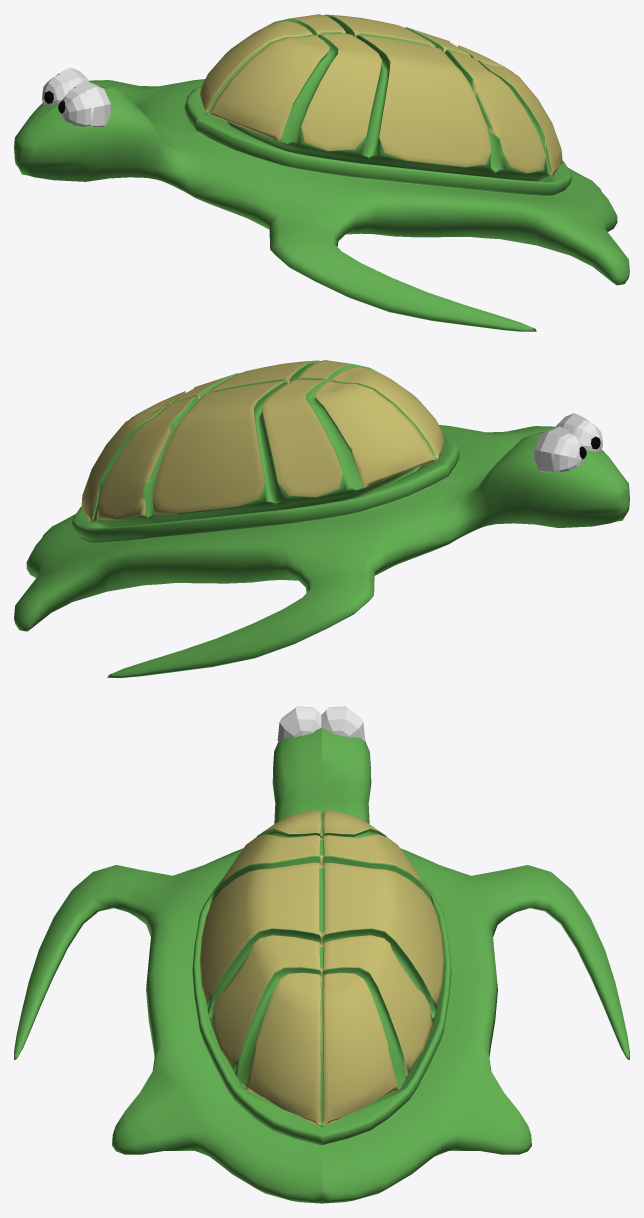
File: TURTLE2.fbx
3 renders of one model, top to bottom at view 1: azimuth 30°, elevation 25°; view 2: azimuth 150°, elevation 25°; view 3: azimuth 270°, elevation 25°, orthographic. The views are drawn at different scales.
Parts seen in each view (by area): view 1: TURTLE; view 2: TURTLE; view 3: TURTLE.
Part boxes in pixels (x1,y1,x2,y2): TURTLE: (14, 14, 629, 331); TURTLE: (14, 360, 629, 677); TURTLE: (14, 706, 629, 1203).
Bounding box in the file's own units: 7.46 × 6.94 × 3.14.
